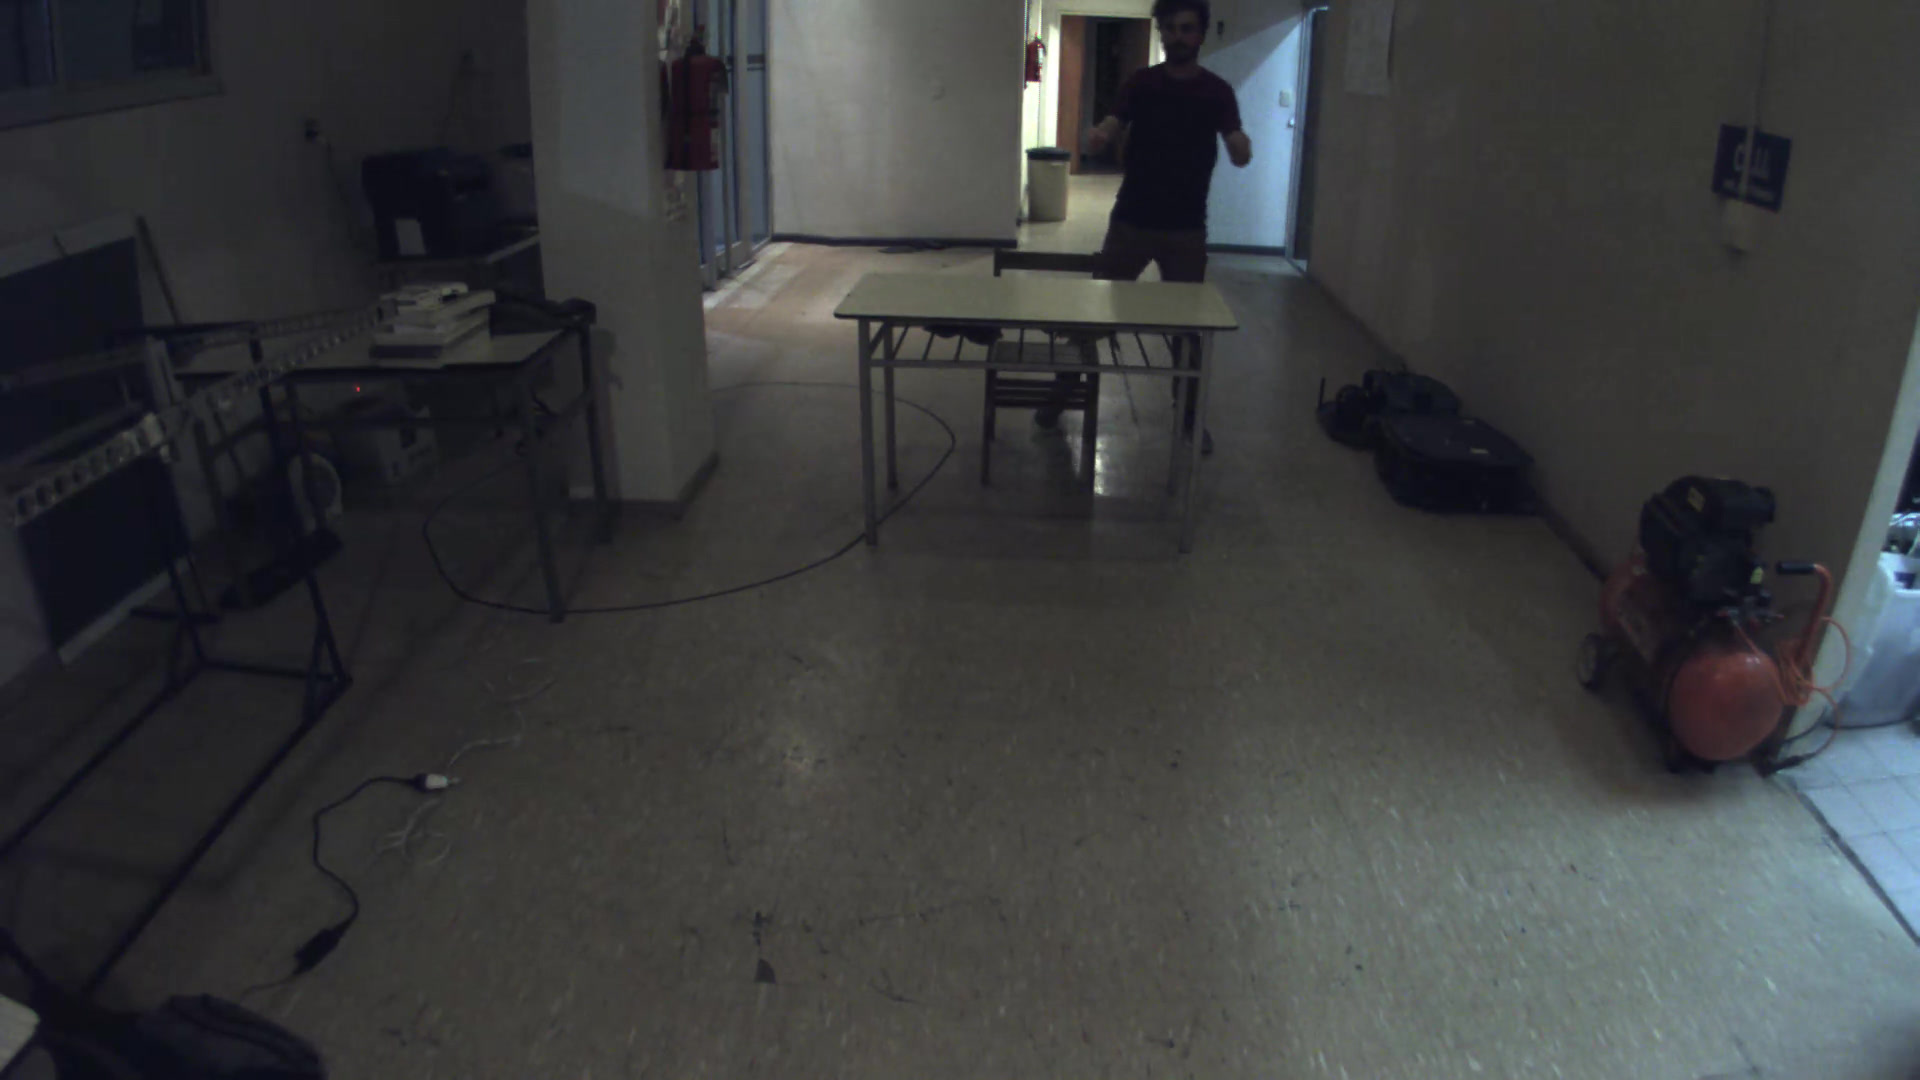hand: (1065, 112, 1129, 160), (1218, 125, 1276, 175)
